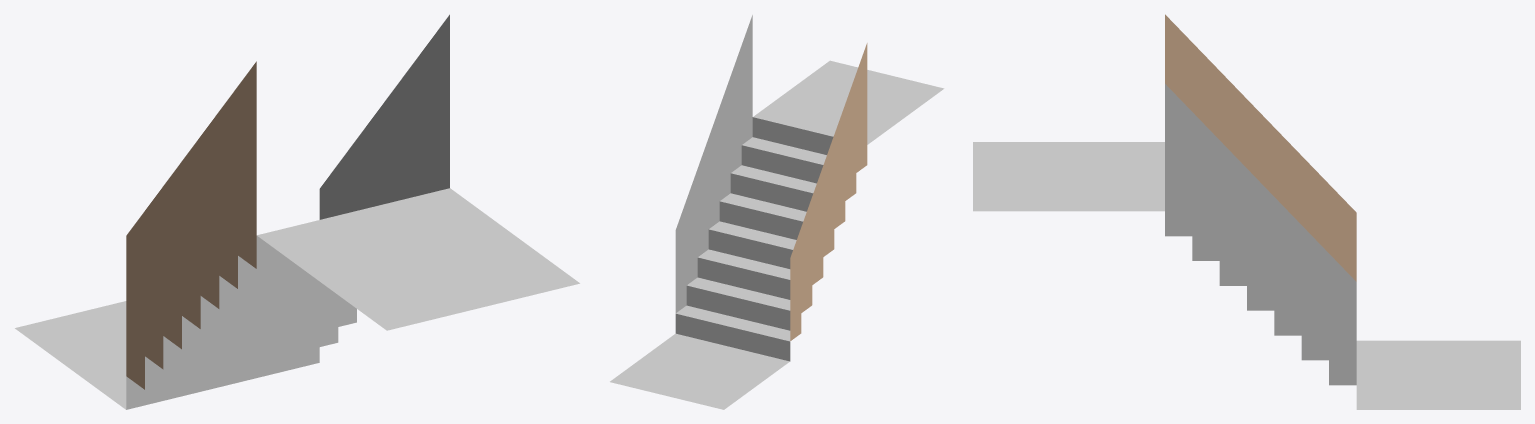
The model's file is Stairs.fbx.
3 views of the same model, side by side, from view 1: azimuth 30°, elevation 25°; view 2: azimuth 150°, elevation 25°; view 3: azimuth 270°, elevation 25° (orthographic). The views are drawn at different scales.
Visible parts, largest first — view 1: output0_0_Instance10.001; view 2: output0_0_Instance10.001; view 3: output0_0_Instance10.001.
Boxes of the visible parts, bbox=[...] form: output0_0_Instance10.001: bbox=[15, 14, 579, 409]; output0_0_Instance10.001: bbox=[610, 15, 944, 409]; output0_0_Instance10.001: bbox=[973, 14, 1520, 409].
Size of the model in its own units: 300 by 658 by 1000.
